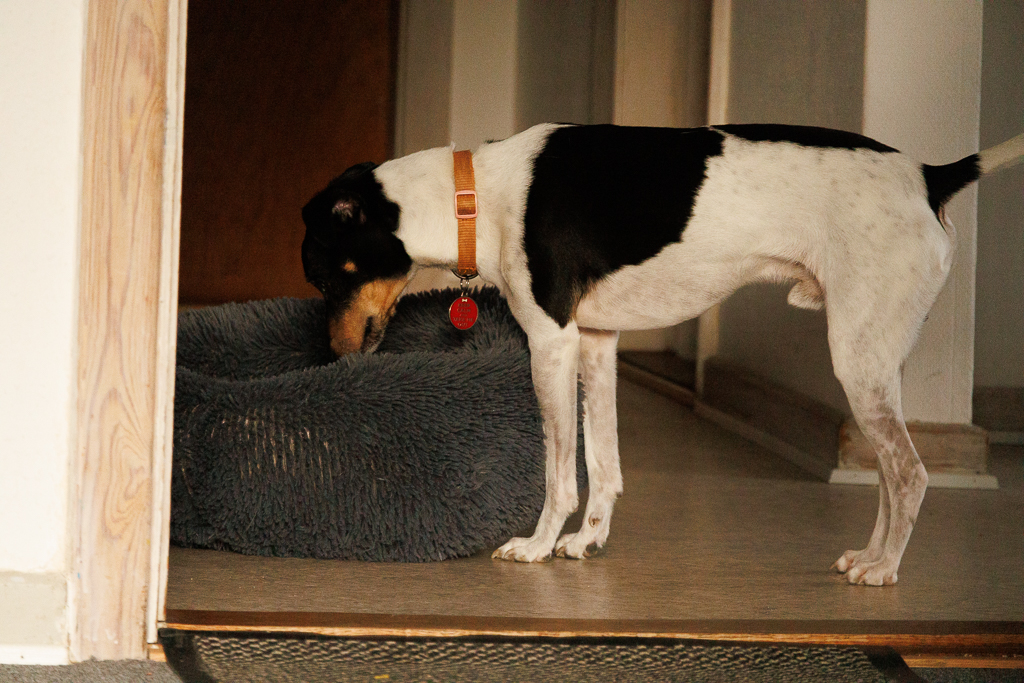Dog: (279, 100, 1024, 608)
